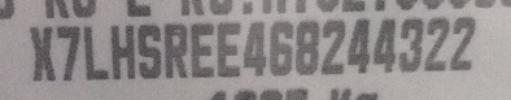letter: (27, 24, 56, 80), (422, 14, 450, 71), (448, 15, 476, 71), (396, 16, 424, 72), (162, 22, 190, 78), (110, 23, 137, 81), (345, 17, 372, 74), (371, 17, 398, 74), (319, 18, 346, 75), (293, 19, 320, 75), (241, 19, 268, 75), (267, 19, 294, 75), (215, 20, 242, 76), (136, 23, 163, 79), (82, 24, 109, 80), (189, 21, 214, 77), (55, 24, 80, 80)
